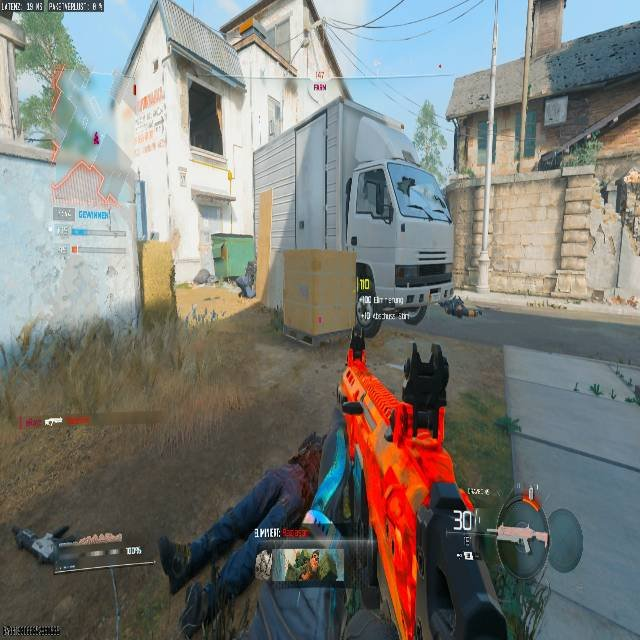player: (237, 259, 256, 297)
